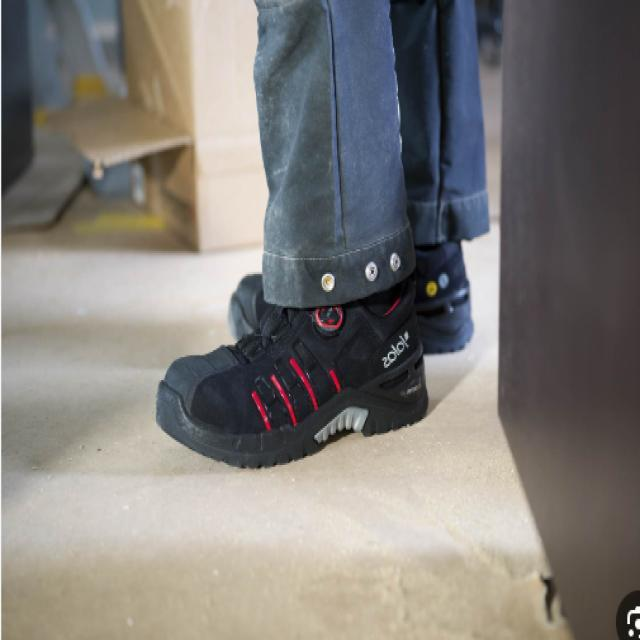shoes: (152, 179, 479, 474)
